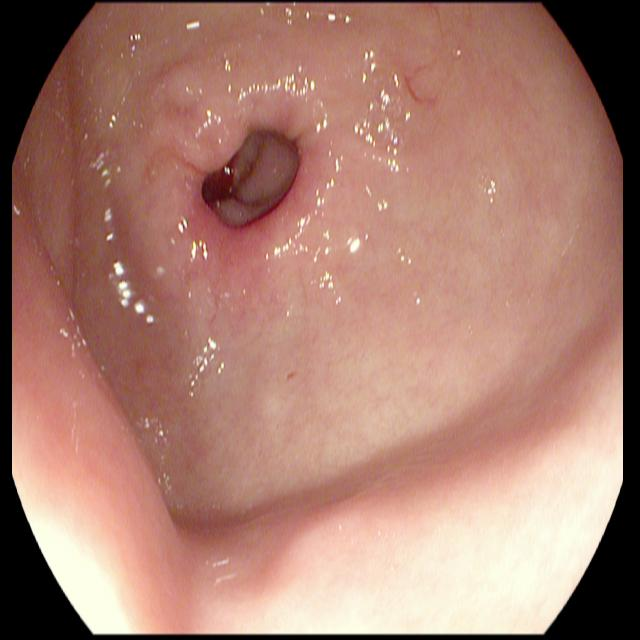normal-pylorus: (99, 26, 468, 335)
